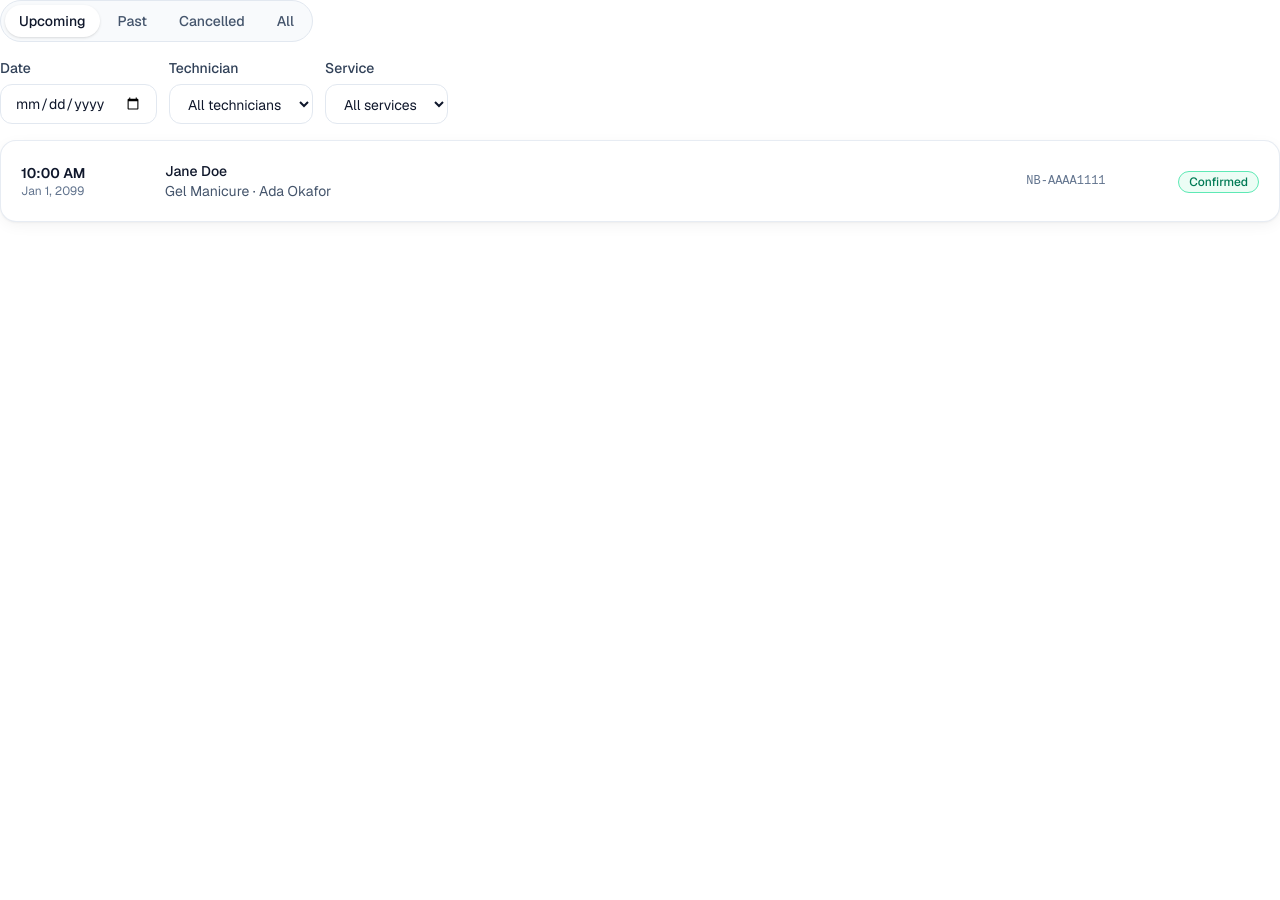
it: S12-BE lifecycle — reschedule › moves the booking to the new date/time, preserving id and reference, and closes the reschedule dialog
The width and height of the screenshot is (1280, 900).
Expected: the text "Jane Doe" is shown, [165,162,227,180]
Click the button with aria-label "view booking details for jane doe" at (53, 173), box [21,161,1154,201]
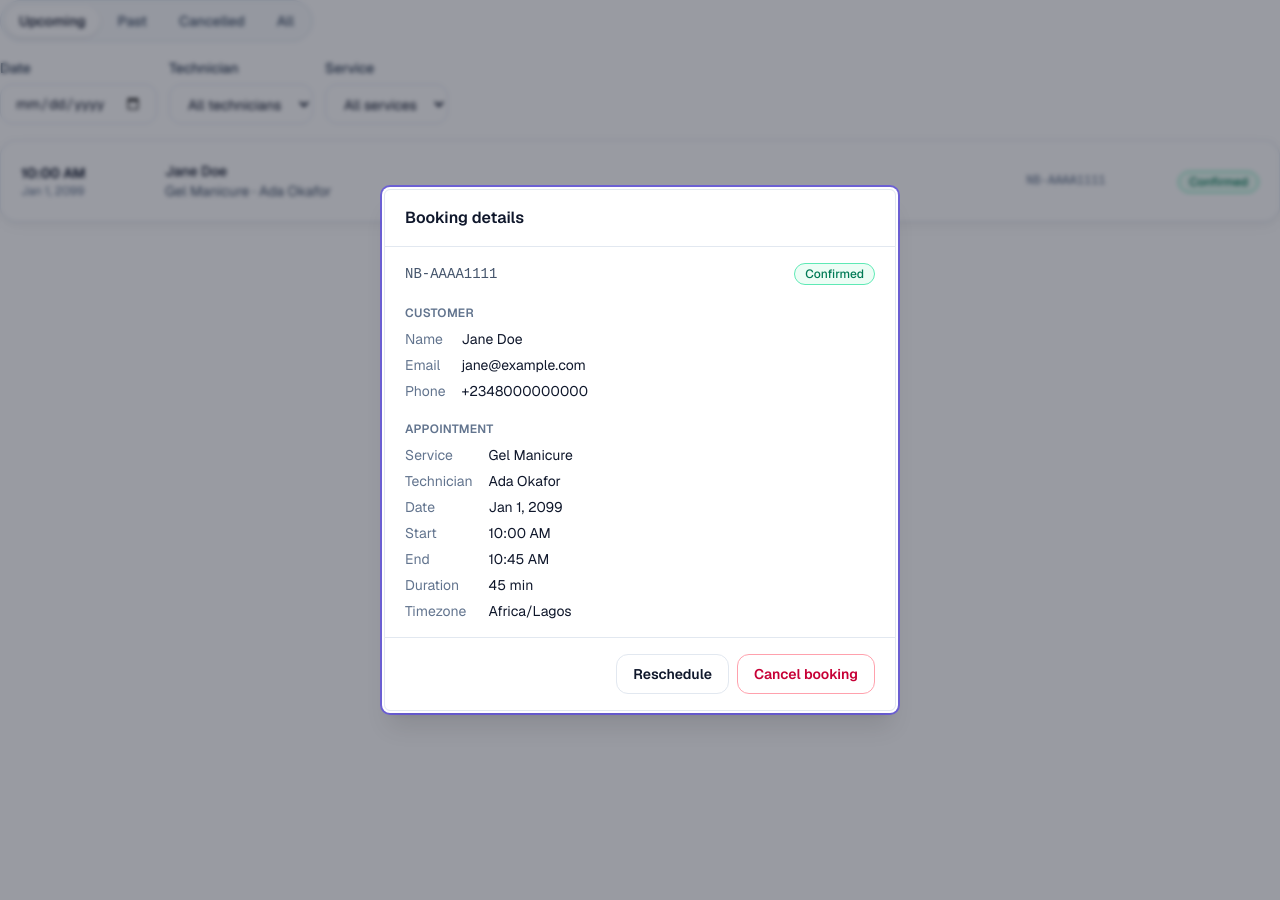
Expected: the dialog "Booking details" is shown, [384,189,896,711]
Click the button "Reschedule" at (673, 674), box [616,654,729,694]
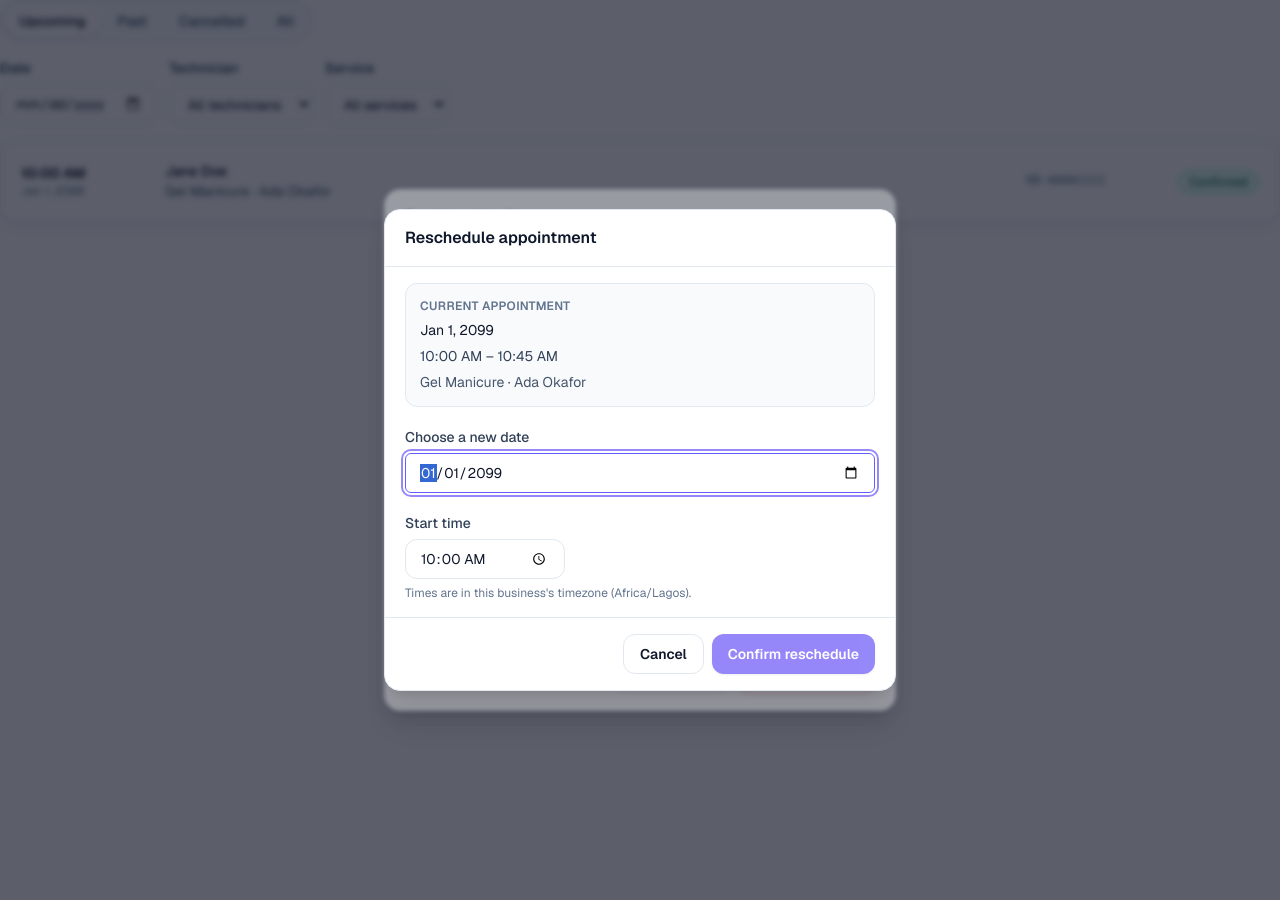
Type "2099-02-01" into the date field labelled "Choose a new date" at (640, 473), box [405,453,875,493]
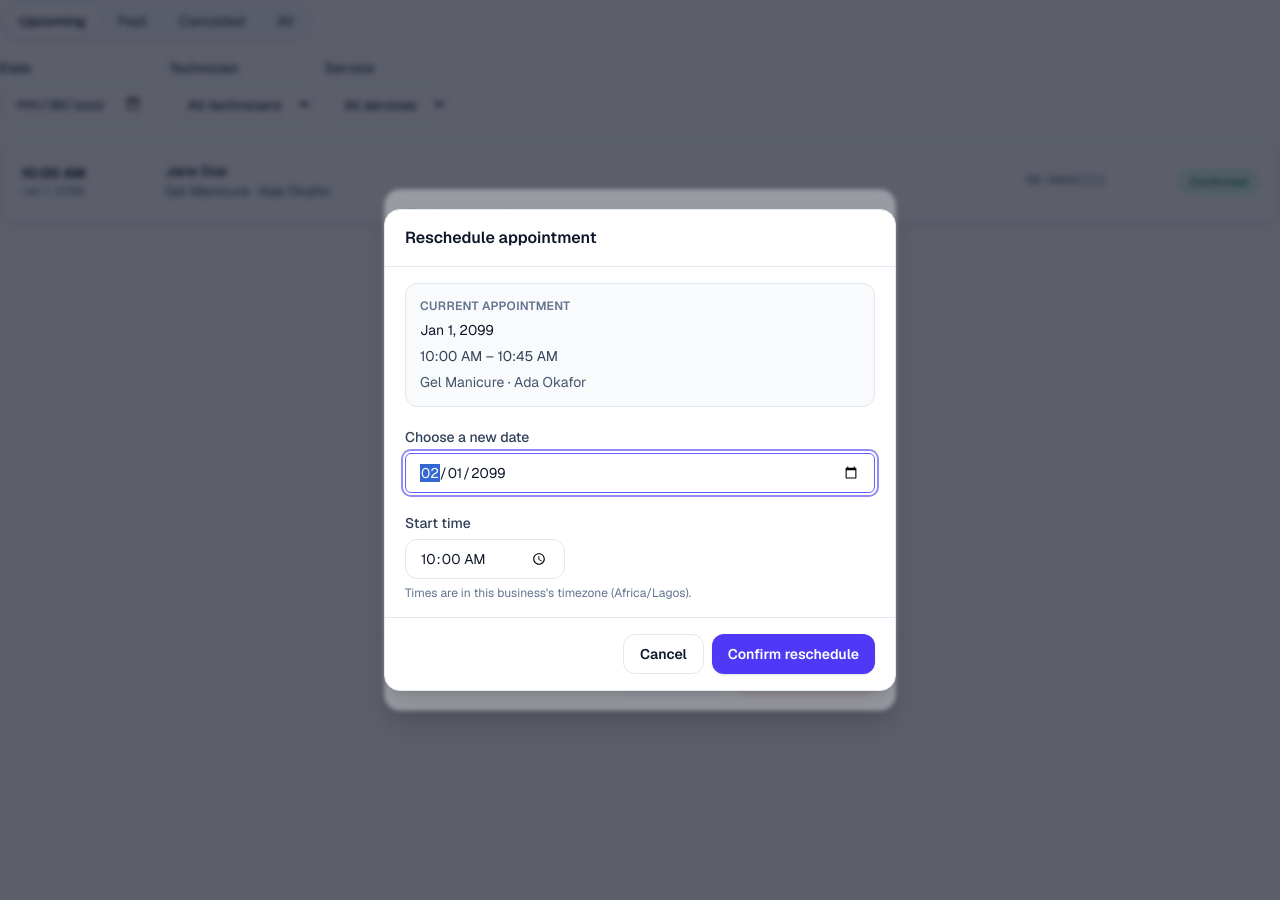
Click the button "Confirm reschedule" at (793, 654), box [712,634,875,674]
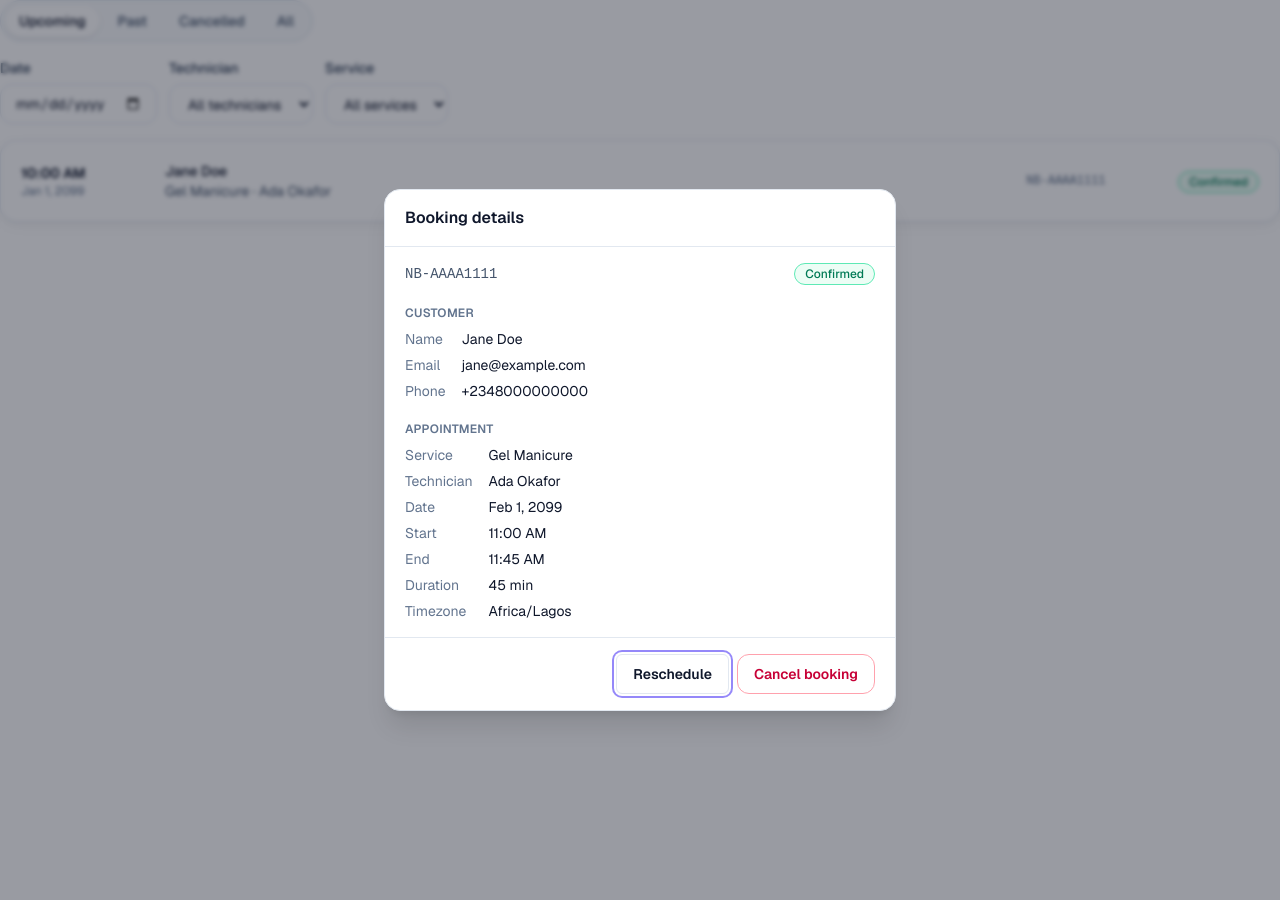
Expected: the text "NB-AAAA1111" is shown, [405,264,497,284]
Expected: the heading "Reschedule appointment" is gone
